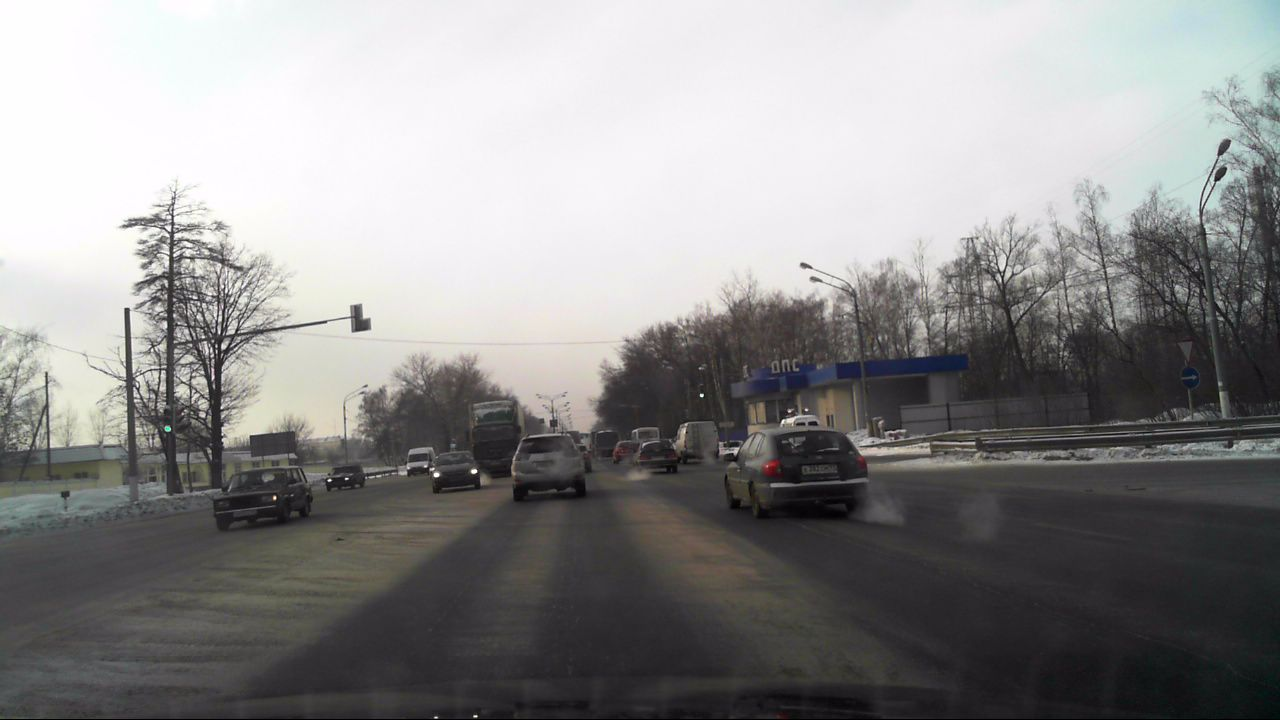Turn Right: (1180, 367, 1201, 390)
